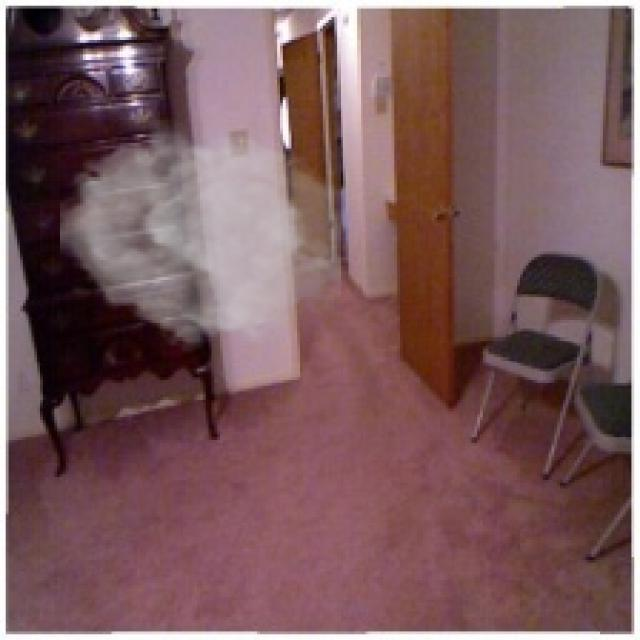Smoke: (60, 117, 340, 354)
